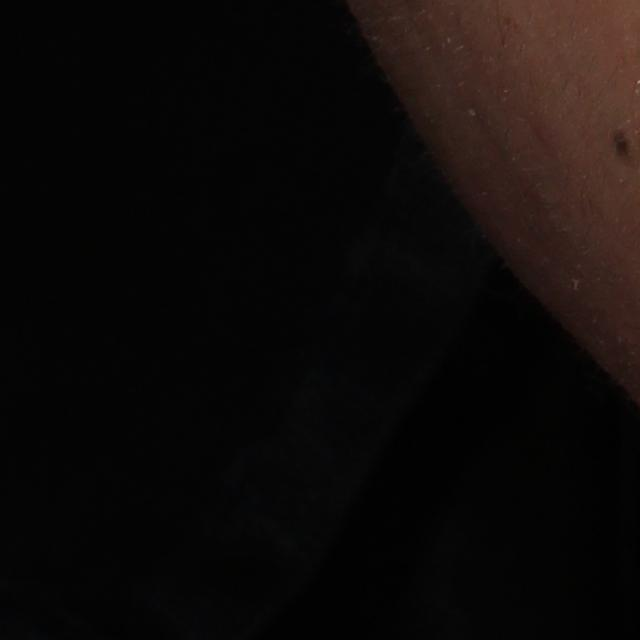nevus: (607, 122, 635, 166)
